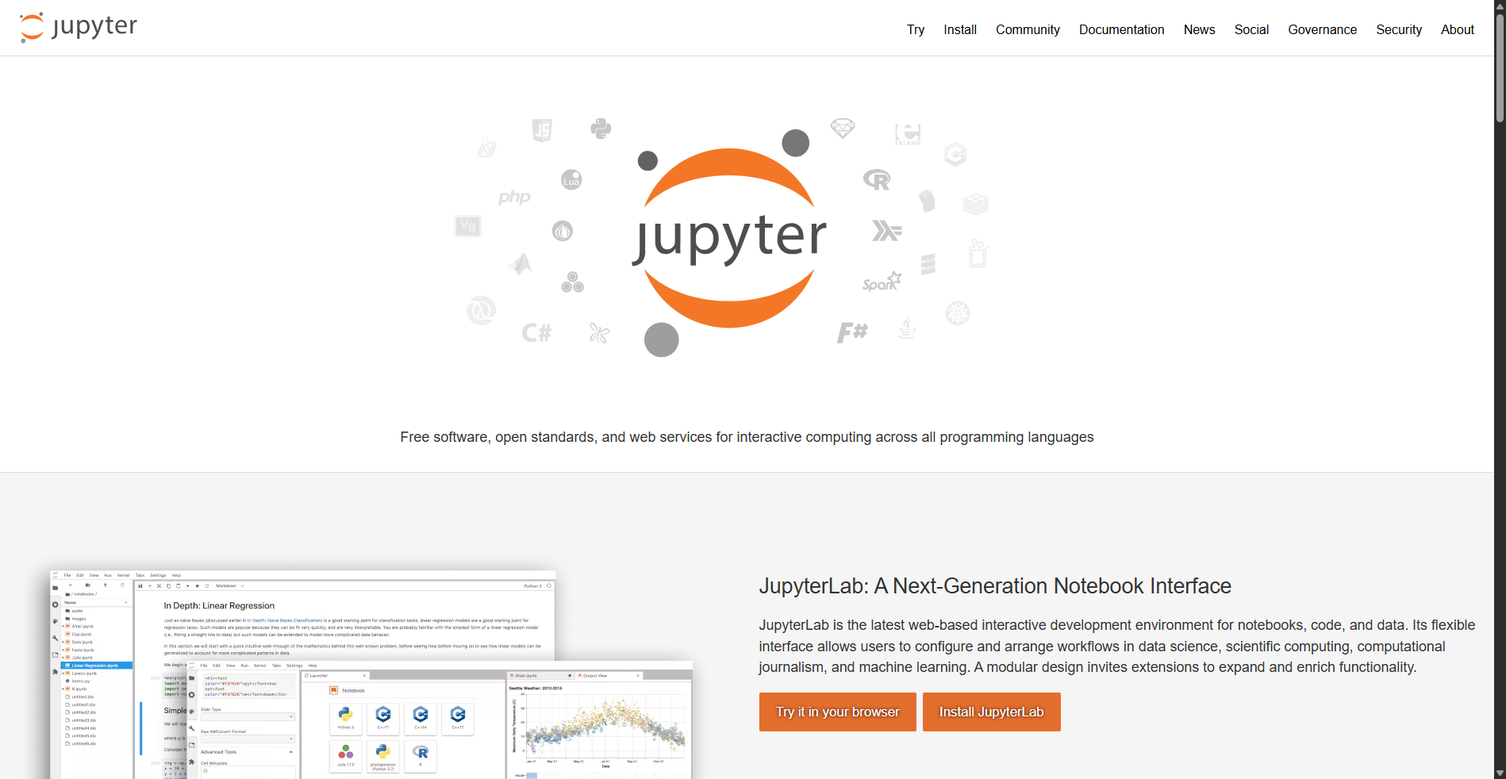general_button: (759, 692, 1482, 731), (759, 692, 916, 731), (923, 692, 1061, 731)
general_image: (12, 551, 714, 779), (12, 118, 605, 366), (453, 126, 990, 359), (453, 118, 990, 343), (20, 12, 137, 44)
general_link: (20, 12, 137, 44), (1079, 23, 1165, 36), (1288, 23, 1357, 36), (996, 23, 1060, 36), (1376, 23, 1422, 36), (1234, 23, 1269, 36), (1236, 574, 1257, 595), (944, 23, 977, 36), (1441, 23, 1474, 36), (1184, 23, 1215, 36), (907, 23, 925, 36)
